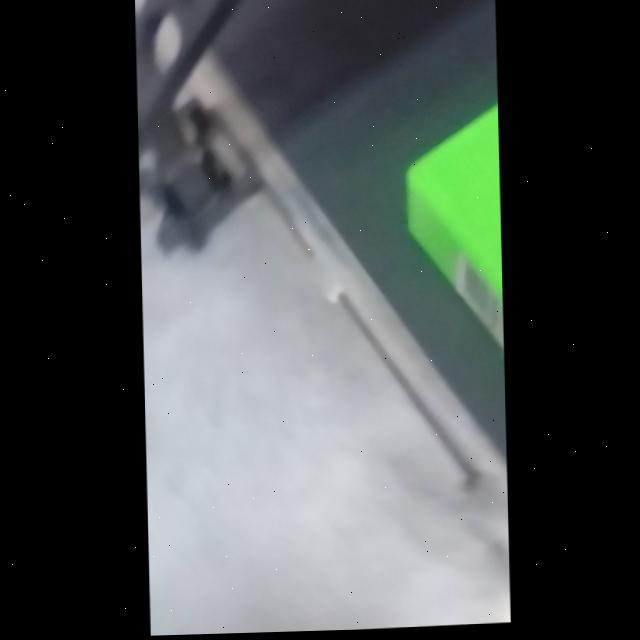greenBox: (380, 46, 505, 452)
